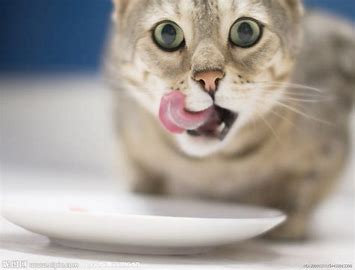cat: (92, 1, 354, 214)
